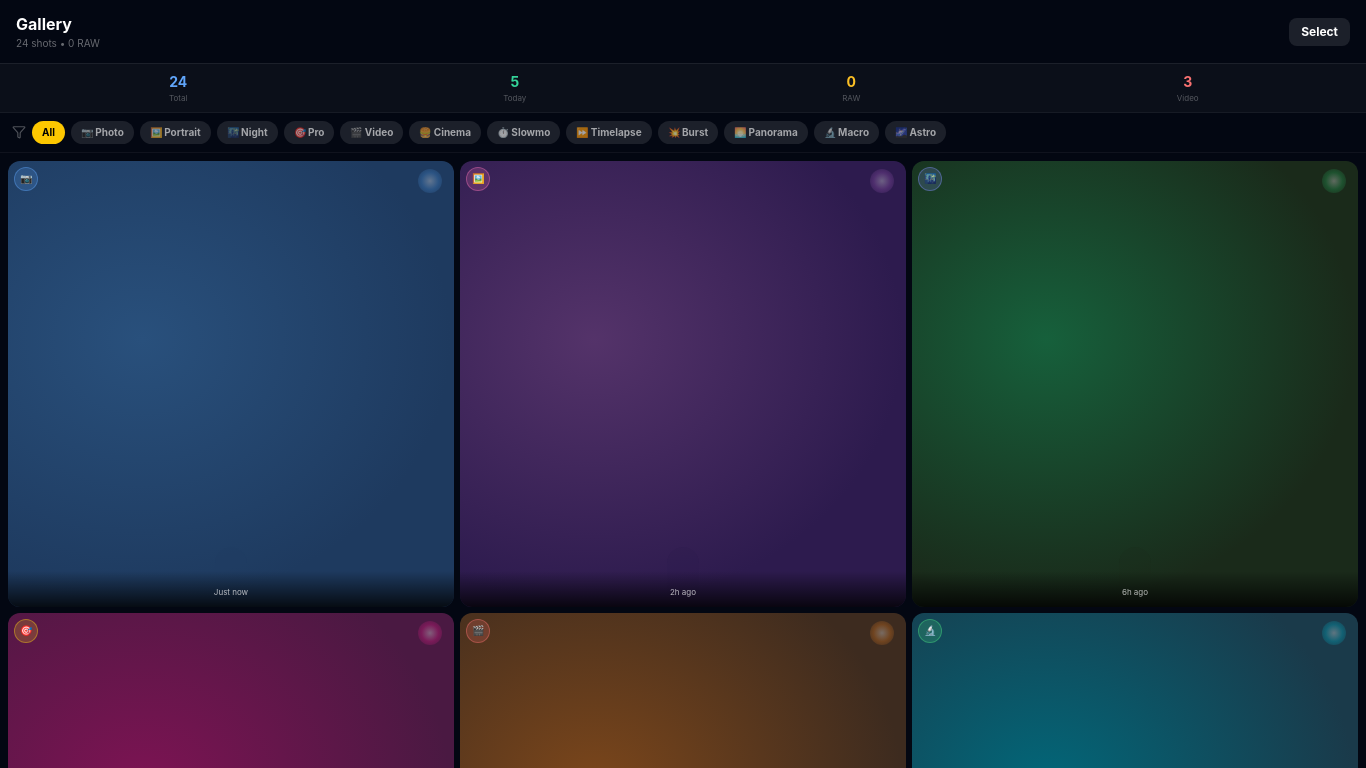
Test: GalleryView › opens shot detail on thumbnail click
Click the button "📷 Just now": (231, 384) [8,161,454,607]
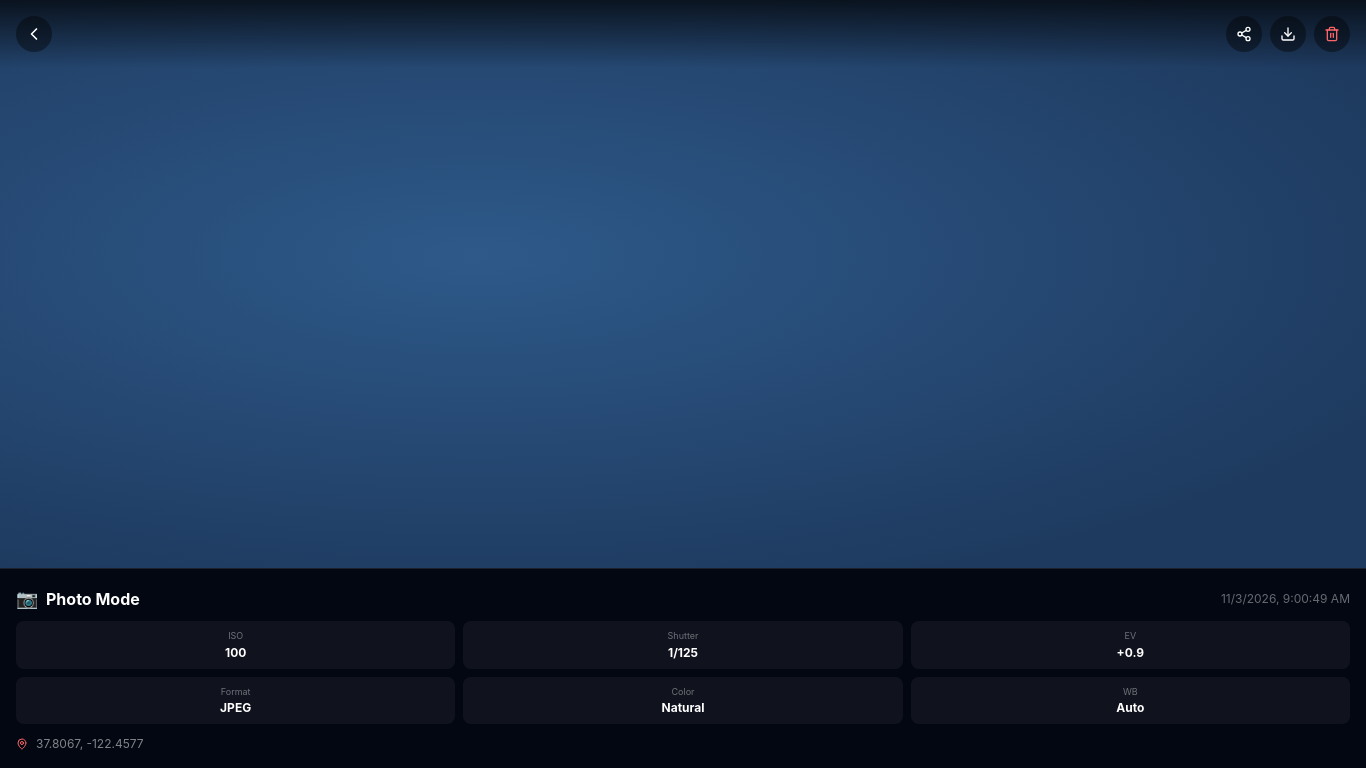
Result: the text "photo Mode" is shown at [46,587,140,611]
